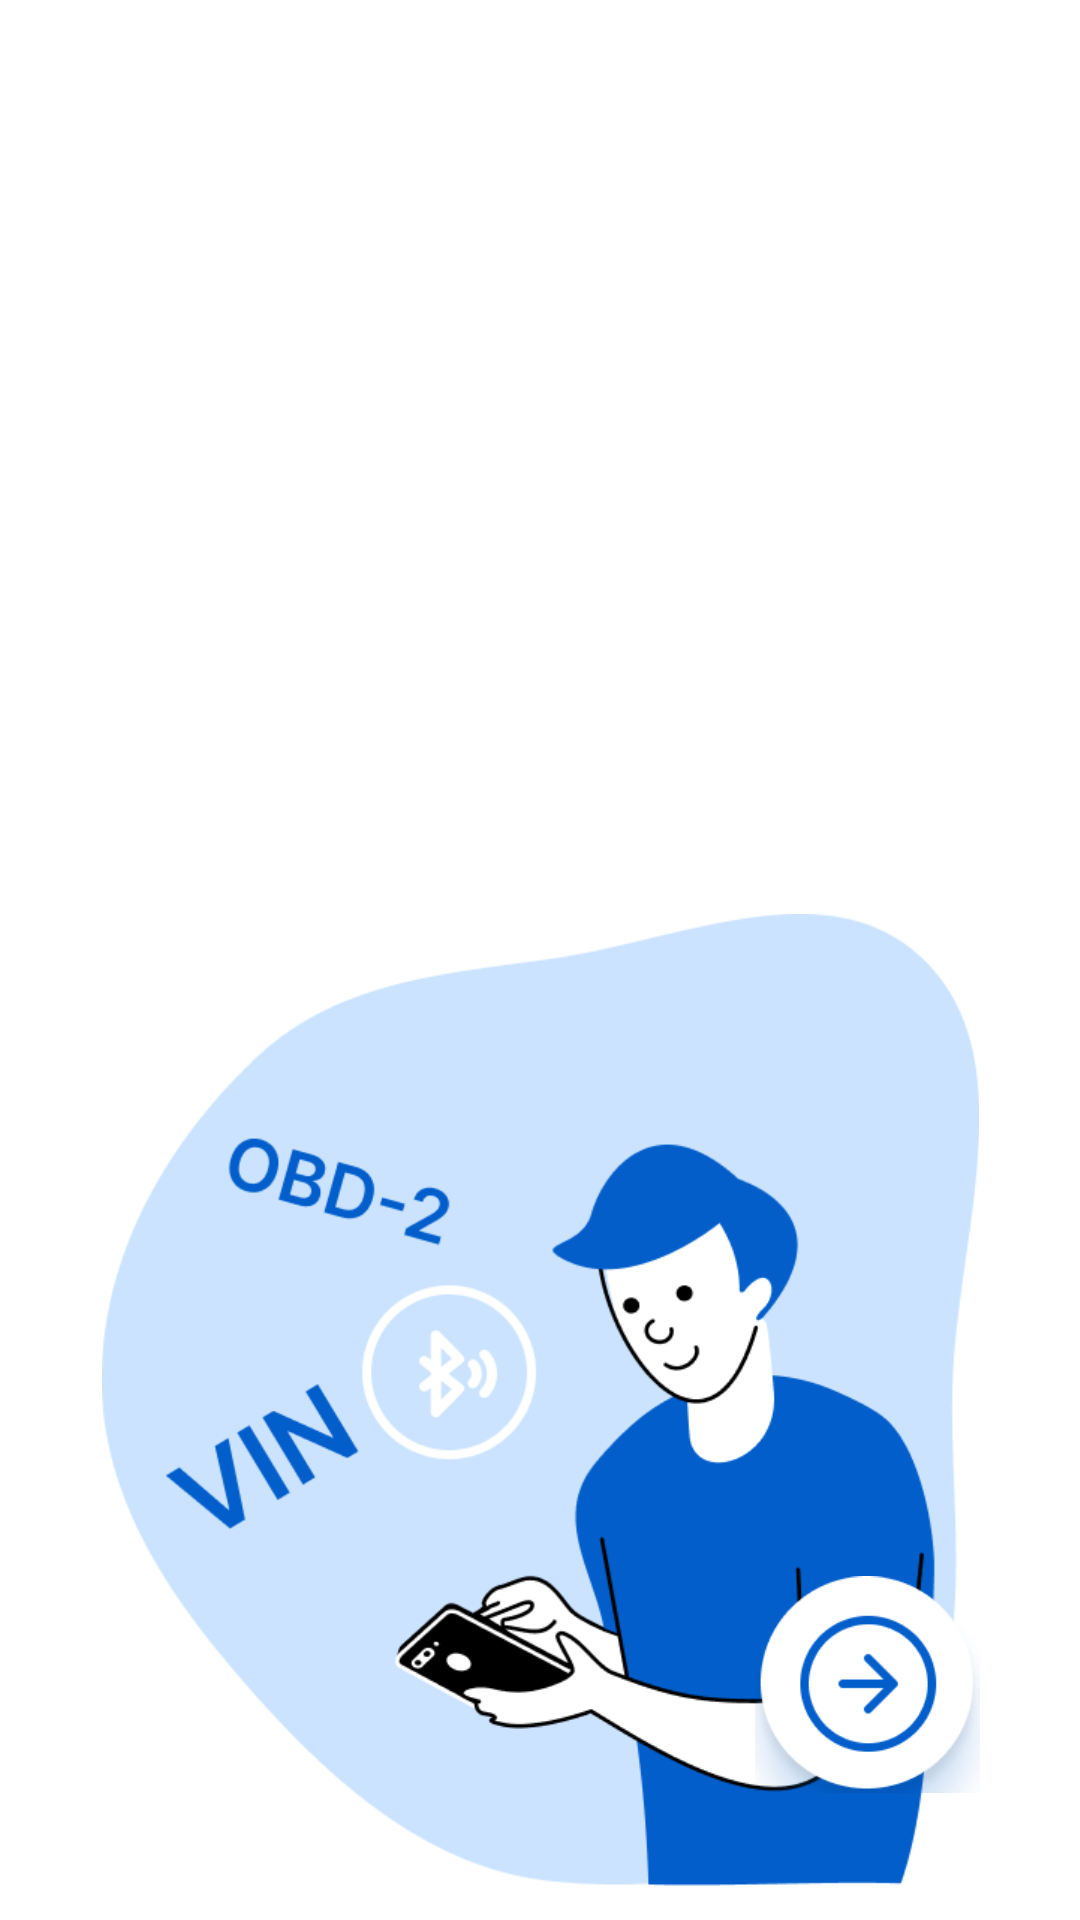

Icons on this 1080x1920 Android screen, each with the point to tap as (x,y):
Кнопка далее: (867,1684)
